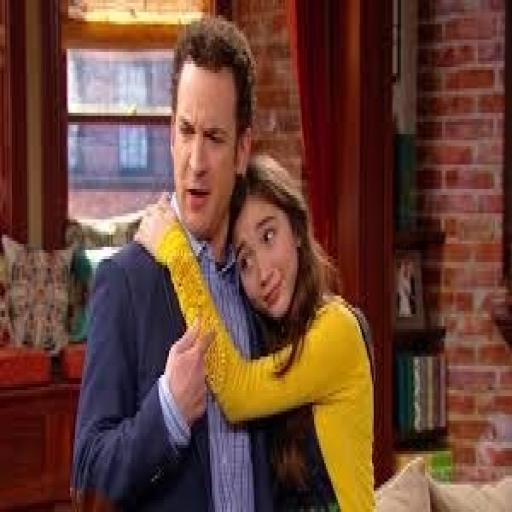hugging: (68, 12, 379, 509)
